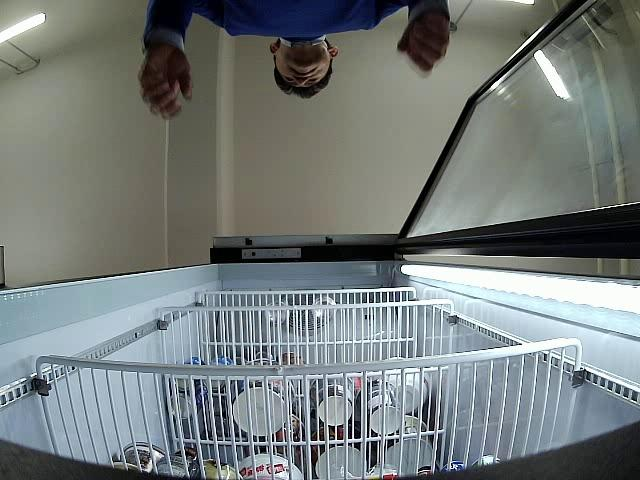00_hand: (138, 49, 192, 119), (397, 16, 452, 78)
